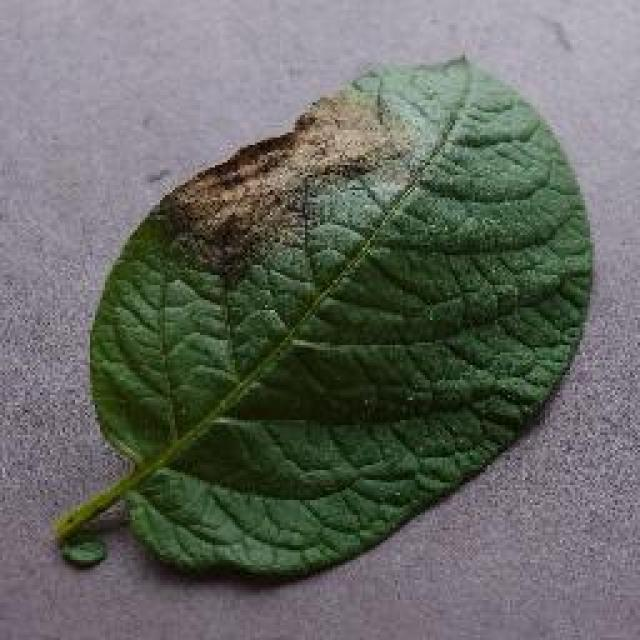late_blight: (62, 50, 598, 585)
